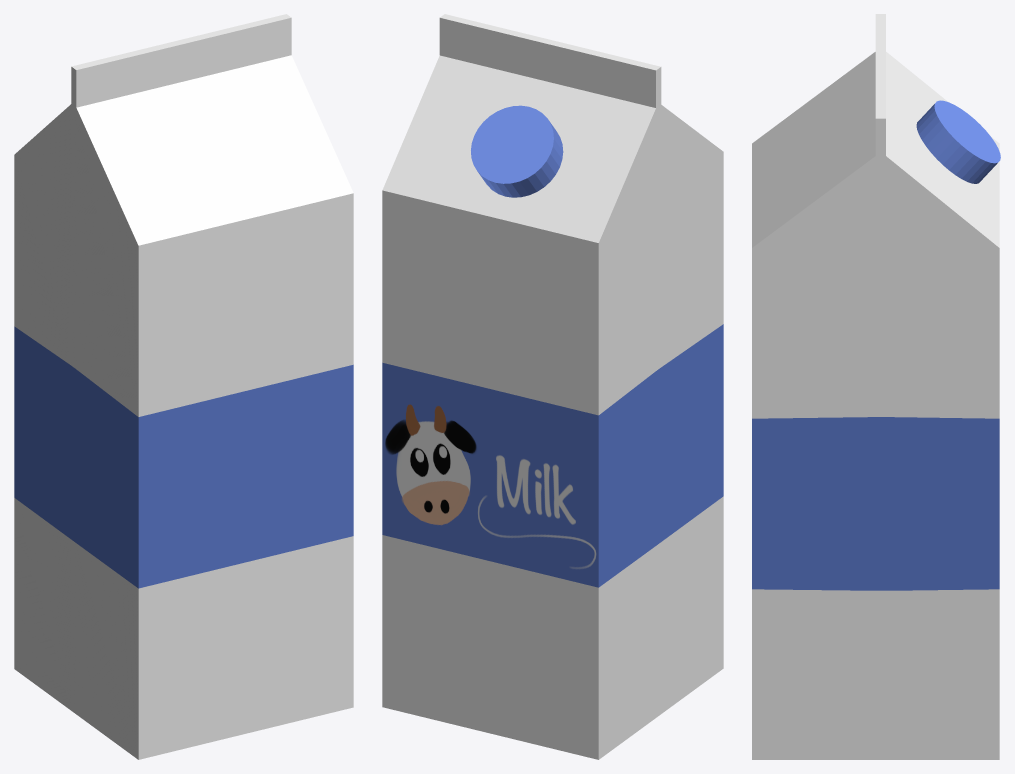
The model's file is Milk.fbx.
3 renders of one model, left to right at view 1: azimuth 30°, elevation 25°; view 2: azimuth 150°, elevation 25°; view 3: azimuth 270°, elevation 25°, orthographic.
Parts seen in each view (by area): view 1: Cube; view 2: Cube, Cube.001; view 3: Cube, Cube.001.
Part boxes in pixels (x1=…): Cube: x1=14, y1=14, x2=353, y2=759; Cube: x1=382, y1=14, x2=723, y2=759; Cube.001: x1=471, y1=105, x2=563, y2=197; Cube: x1=752, y1=14, x2=999, y2=759; Cube.001: x1=916, y1=100, x2=1000, y2=183.
Size of the model in its own units: 200 by 572 by 201.
